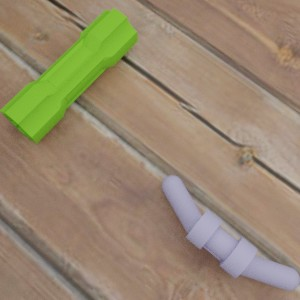lego: (0, 7, 137, 143), (161, 175, 299, 290)
